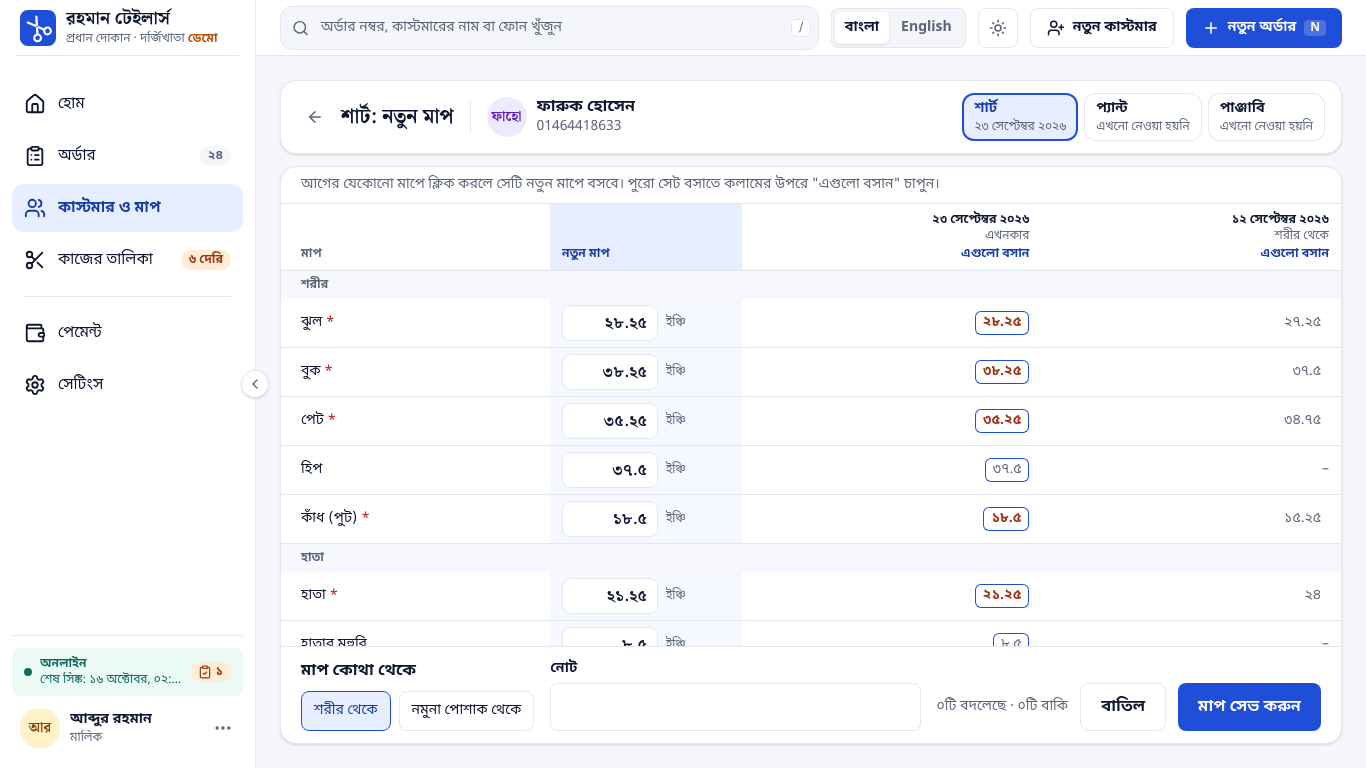
it: Desktop measurement form › copies one earlier value into the new column and saves it
Expected: the heading "শার্ট: নতুন মাপ" is shown, top-left (341, 103), bottom-right (454, 131)
Clear the field named "বুক" at (610, 372), box top-left (562, 354), bottom-right (658, 390)
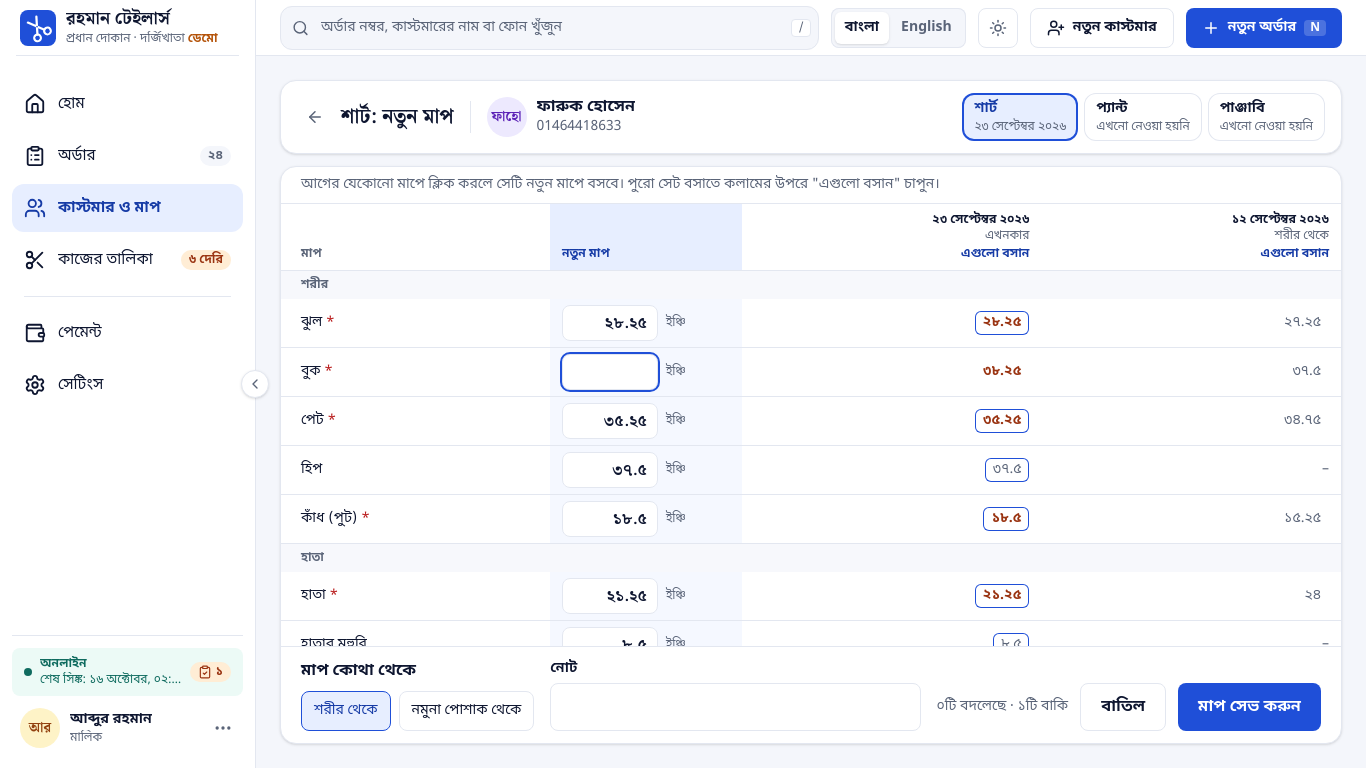
Click the button "৩৭.৫" in the row of "বুক" at (1307, 372), box top-left (1284, 360), bottom-right (1329, 384)
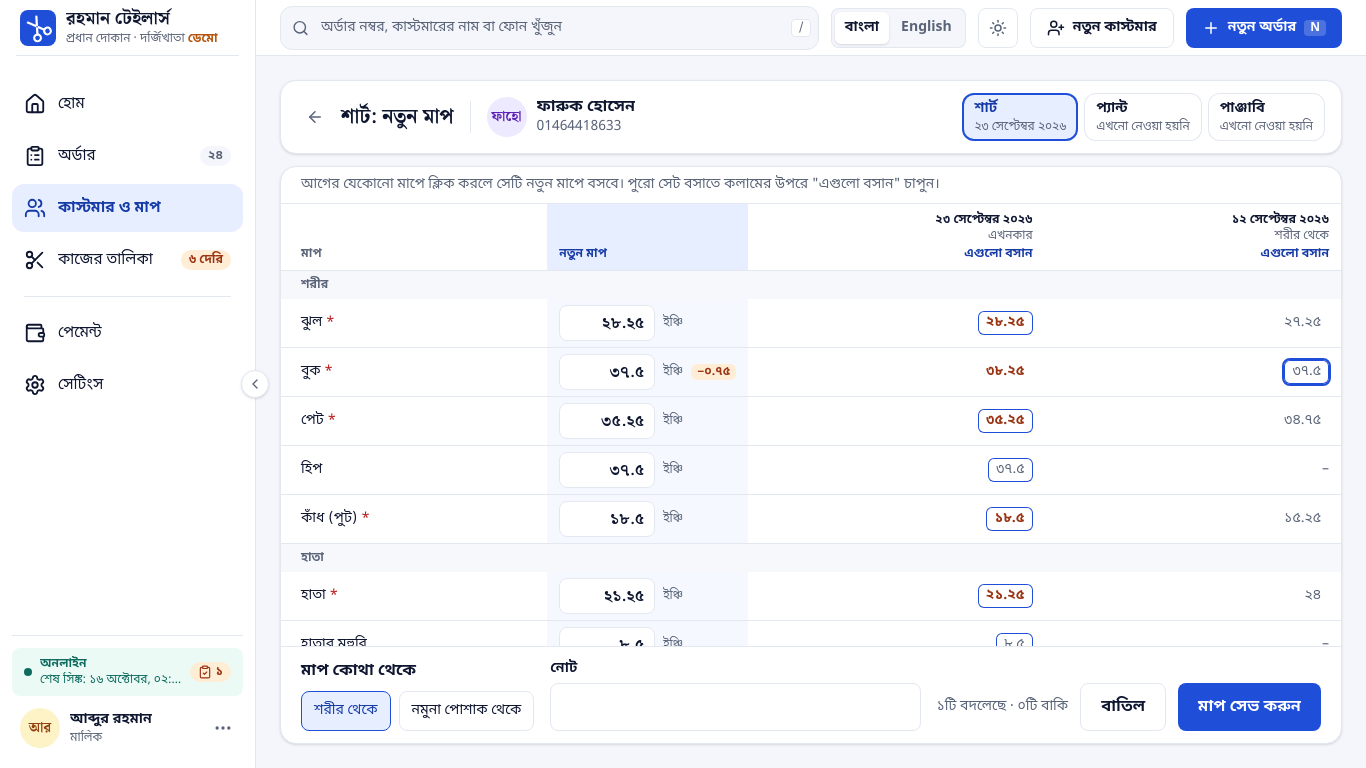
Click the button "মাপ সেভ করুন" at (1250, 707), box top-left (1178, 683), bottom-right (1321, 731)
(page scrolled)
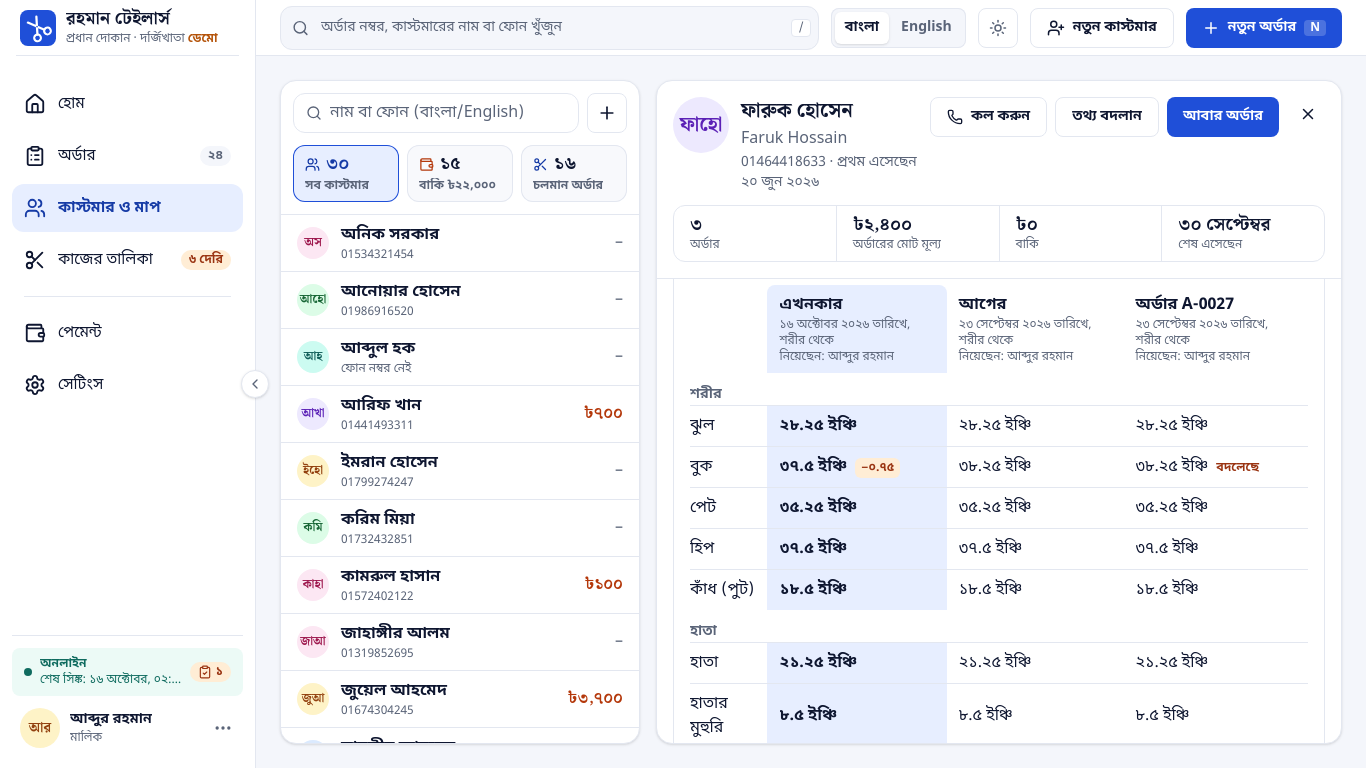
Now the element "মাপ" is shown, box top-left (673, 278), bottom-right (1325, 743)
